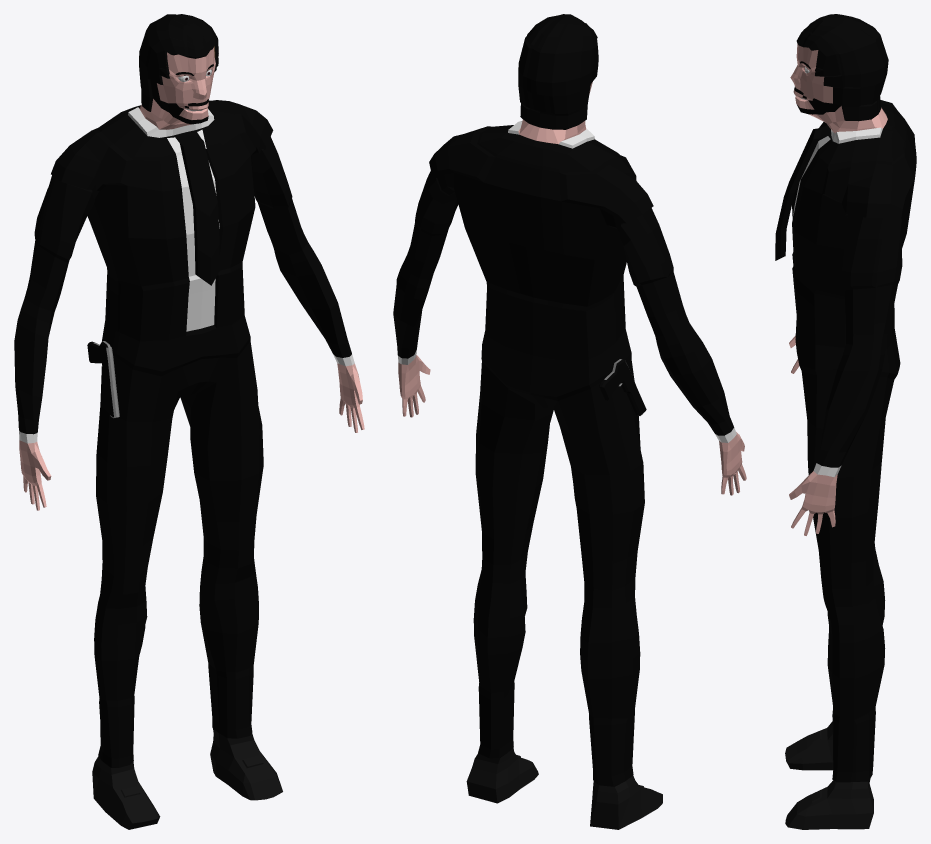
Rendered from Jon Wicked _.fbx.
3 views of the same model, side by side, from view 1: azimuth 30°, elevation 25°; view 2: azimuth 150°, elevation 25°; view 3: azimuth 270°, elevation 25° (orthographic).
Visible parts, largest first — view 1: HumanBody, Cube; view 2: HumanBody, Cube; view 3: HumanBody.
Part boxes in pixels (x1,y1,x2,y2): HumanBody: [14, 14, 364, 829]; Cube: [87, 341, 119, 418]; HumanBody: [393, 14, 746, 829]; Cube: [599, 359, 646, 415]; HumanBody: [775, 14, 916, 829].
Size of the model in its own units: 84.85 by 191 by 31.61.
